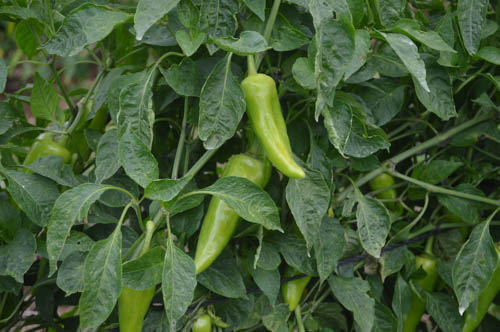ChiliPepper: (193, 155, 265, 267), (243, 76, 305, 178), (17, 134, 71, 201), (403, 257, 437, 332), (115, 275, 155, 332)
